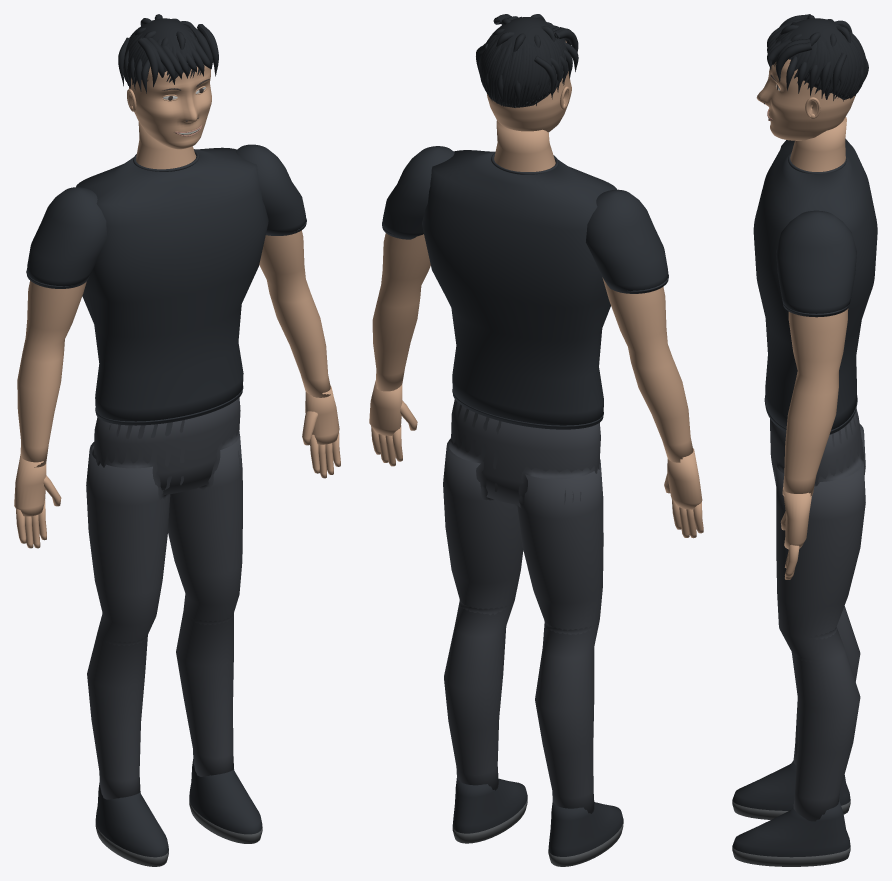
The model's file is hori-daisuke-session-before-v4.fbx.
The picture shows the model from 3 angles, left to right: view 1: azimuth 30°, elevation 25°; view 2: azimuth 150°, elevation 25°; view 3: azimuth 270°, elevation 25°; orthographic projection. The views are drawn at different scales.
Visible parts, largest first — view 1: HD_TShirt_Torso, V3_Pants_Leg_R, V3_Pants_Leg_L, HD_Arm_R, V3_Pelvis_Pants, HD_Arm_L, HD_TShirt_Sleeve_R, HD_Head_Cage, V3_Sneaker_L, V3_Sneaker_R, HD_TShirt_Sleeve_L, V3_Pants_Unified (+6 smaller); view 2: HD_TShirt_Torso, V3_Pants_Leg_R, V3_Pants_Leg_L, V3_Pelvis_Pants, HD_Arm_R, HD_TShirt_Sleeve_R, HD_Arm_L, HD_TShirt_Sleeve_L, V3_Sneaker_R, V3_Sneaker_L, V3_Pants_Unified, HD_Neck (+6 smaller); view 3: V3_Pants_Leg_L, HD_TShirt_Torso, HD_Arm_L, HD_TShirt_Sleeve_L, V3_Sneaker_L, HD_Head_Cage, V3_Sneaker_R, V3_Pelvis_Pants, HD_Neck, V3_Palm_L, V3_Sole_L, V3_Pants_Unified (+4 smaller).
Part boxes in pixels (x1,y1,x2,y2): HD_TShirt_Torso: (76, 147, 268, 425); V3_Pants_Leg_R: (86, 442, 170, 799); V3_Pants_Leg_L: (168, 434, 242, 776); HD_Arm_R: (17, 280, 86, 467); V3_Pelvis_Pants: (94, 397, 240, 495); HD_Arm_L: (259, 230, 330, 397); HD_TShirt_Sleeve_R: (27, 187, 107, 288); HD_Head_Cage: (129, 65, 211, 149); V3_Sneaker_L: (189, 759, 262, 834); V3_Sneaker_R: (95, 782, 168, 857); HD_TShirt_Sleeve_L: (236, 144, 306, 235); V3_Pants_Unified: (87, 420, 241, 772); HD_TShirt_Torso: (422, 150, 616, 429); V3_Pants_Leg_R: (517, 459, 603, 813); V3_Pants_Leg_L: (443, 439, 523, 790); V3_Pelvis_Pants: (451, 399, 600, 505); HD_Arm_R: (602, 277, 693, 462); HD_TShirt_Sleeve_R: (586, 189, 668, 293); HD_Arm_L: (372, 233, 430, 391); HD_TShirt_Sleeve_L: (382, 146, 454, 239); V3_Sneaker_R: (548, 801, 623, 856); V3_Sneaker_L: (452, 778, 527, 833); V3_Pants_Unified: (448, 401, 600, 798); HD_Neck: (494, 120, 555, 171); V3_Pants_Leg_L: (776, 459, 865, 821); HD_TShirt_Torso: (753, 140, 877, 434); HD_Arm_L: (782, 308, 848, 496); HD_TShirt_Sleeve_L: (776, 210, 856, 317); V3_Sneaker_L: (732, 800, 850, 857); HD_Head_Cage: (756, 59, 855, 140); V3_Sneaker_R: (732, 760, 850, 810); V3_Pelvis_Pants: (770, 408, 863, 485); HD_Neck: (790, 117, 846, 171); V3_Palm_L: (782, 488, 811, 549); V3_Sole_L: (732, 846, 850, 866); V3_Pants_Unified: (775, 412, 862, 799).
Bounding box in the file's own units: 42.2 × 100 × 16.22.
